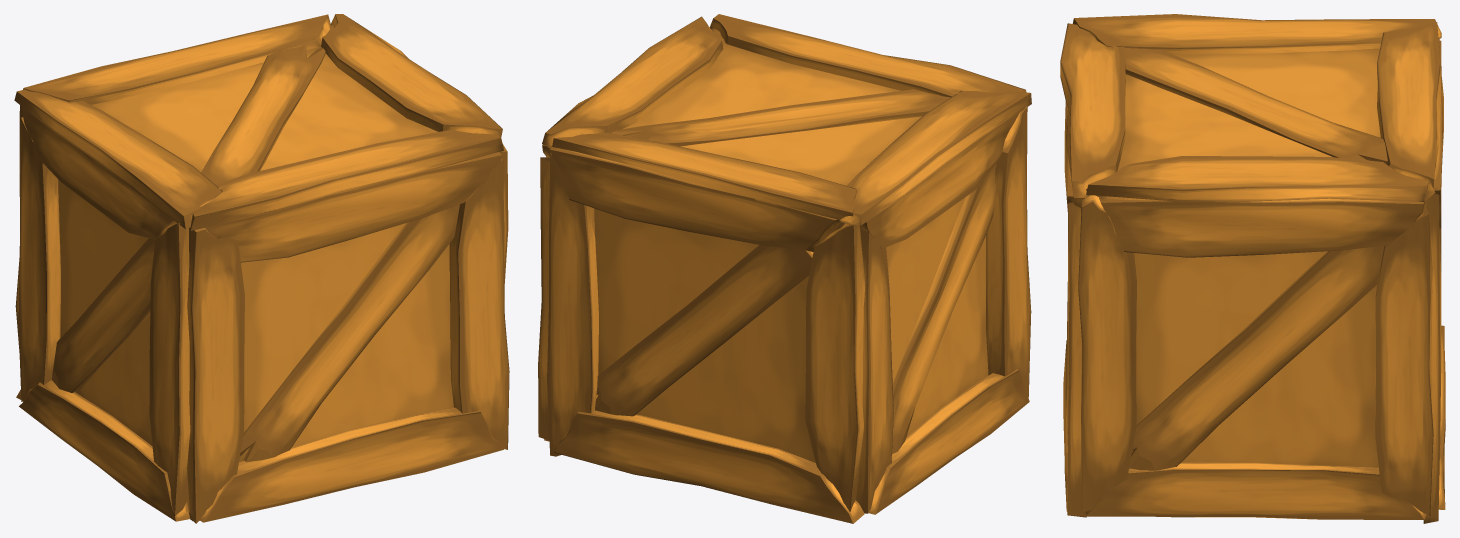
Rendered from WoodenCrateOld.fbx.
3 views of the same model, side by side, from view 1: azimuth 30°, elevation 25°; view 2: azimuth 150°, elevation 25°; view 3: azimuth 270°, elevation 25° (orthographic). The views are drawn at different scales.
Parts seen in each view (by area): view 1: plank025; view 2: plank025; view 3: plank025.
Boxes of the visible parts, <box> form: plank025: <box>14,14,509,523</box>; plank025: <box>538,14,1031,523</box>; plank025: <box>1060,14,1445,523</box>.
Size of the model in its own units: 127 by 115 by 116.
